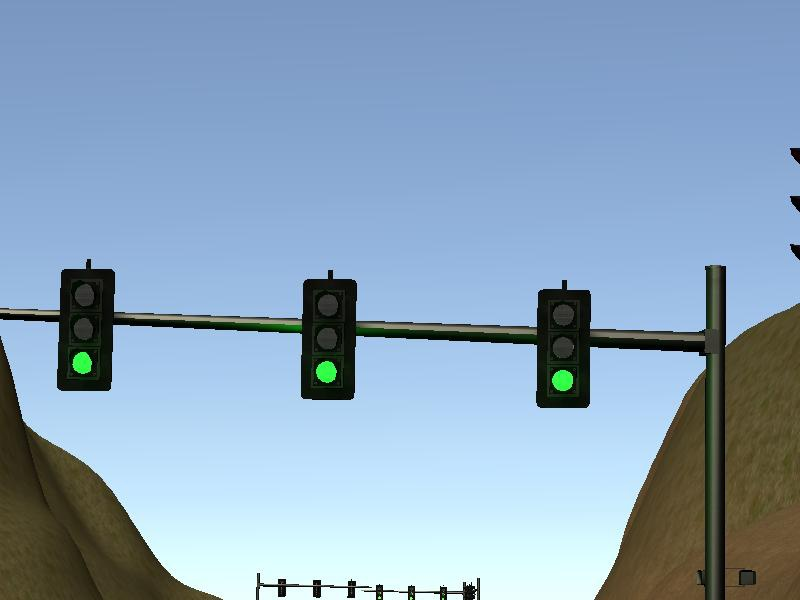Green: (57, 266, 114, 395), (299, 278, 358, 402), (534, 287, 593, 411), (375, 582, 385, 600), (406, 582, 416, 600), (438, 585, 450, 600)
